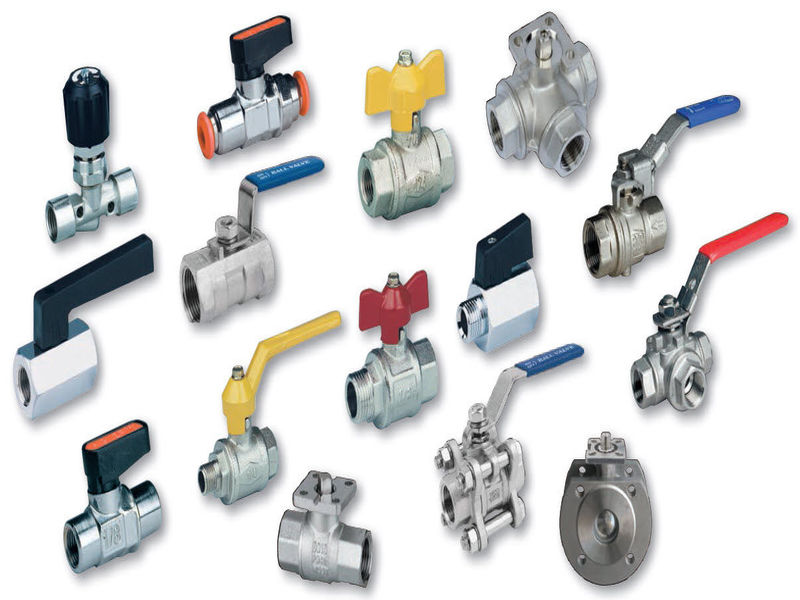valve: (586, 169, 800, 439), (557, 83, 754, 306), (392, 345, 597, 536), (176, 313, 358, 506), (157, 142, 326, 327)
